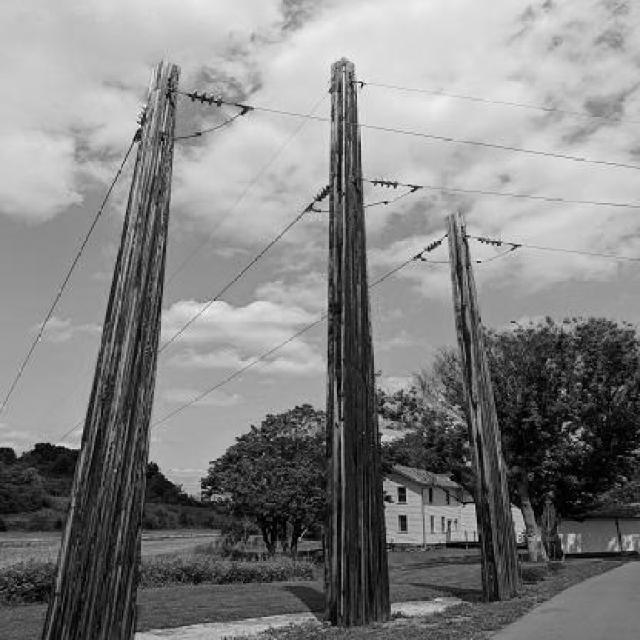Pole: (41, 62, 179, 640), (325, 59, 390, 625), (449, 214, 521, 600)
